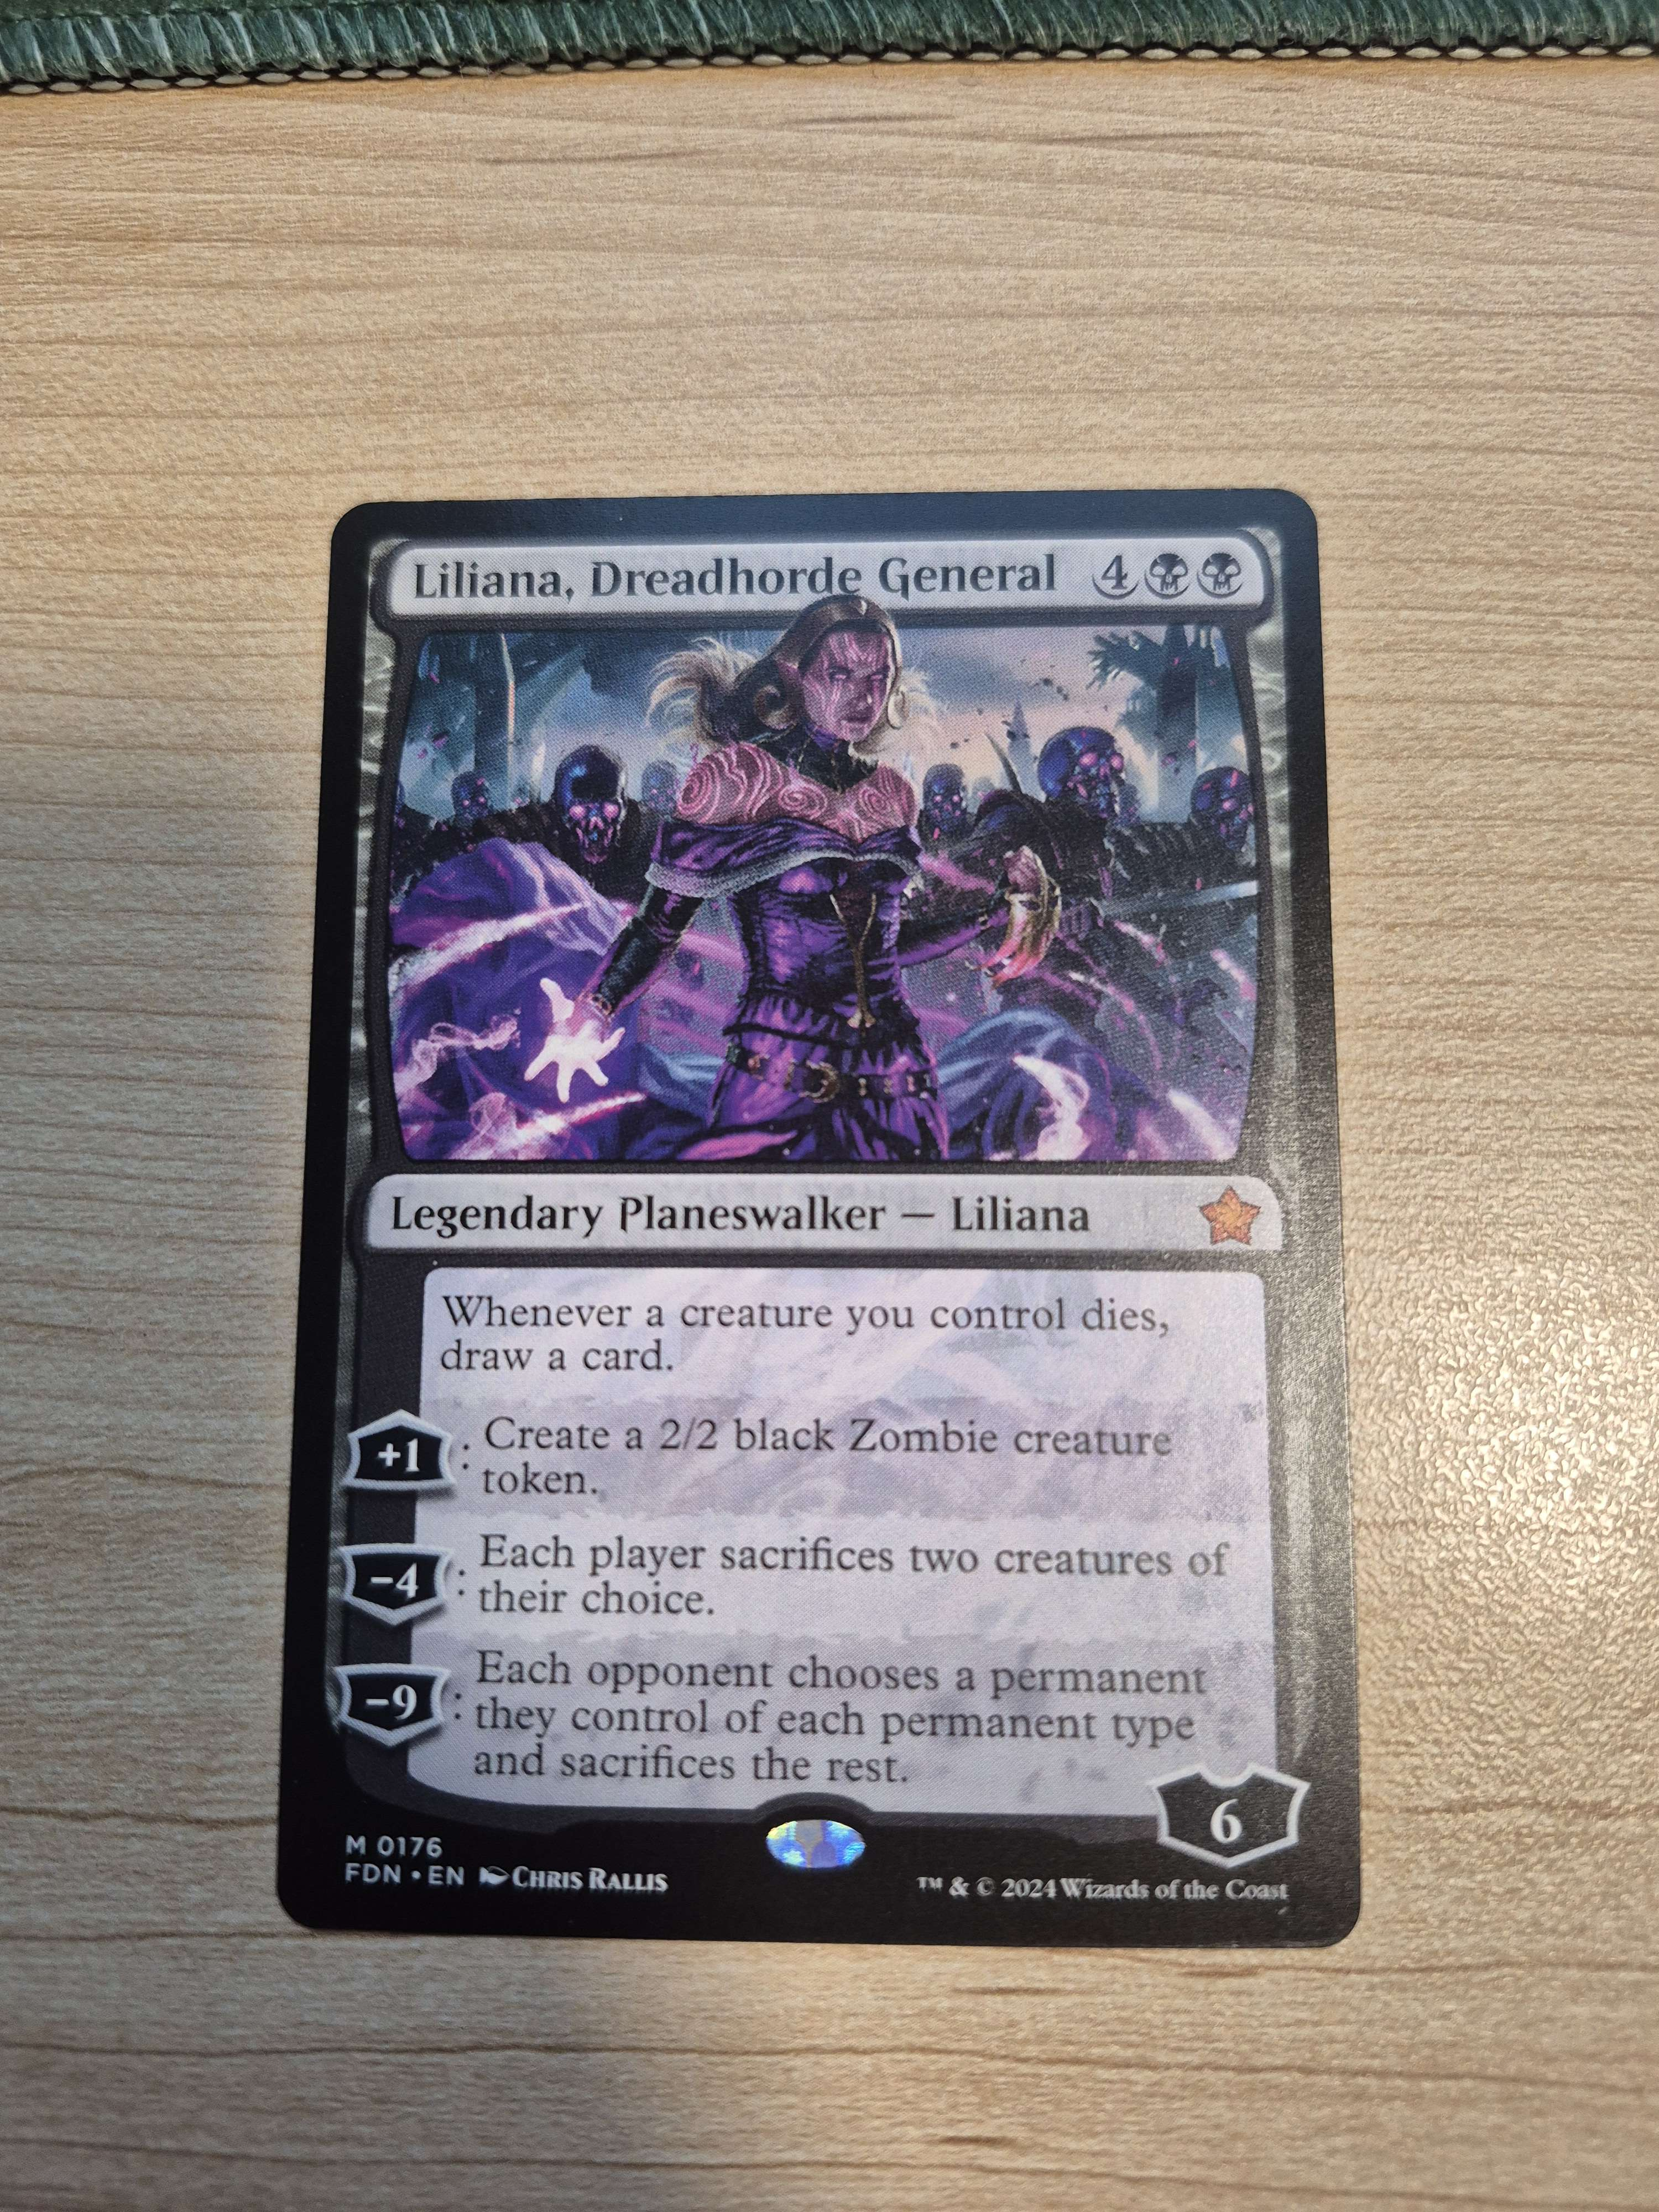mtg_card: (284, 477, 1392, 1989)
